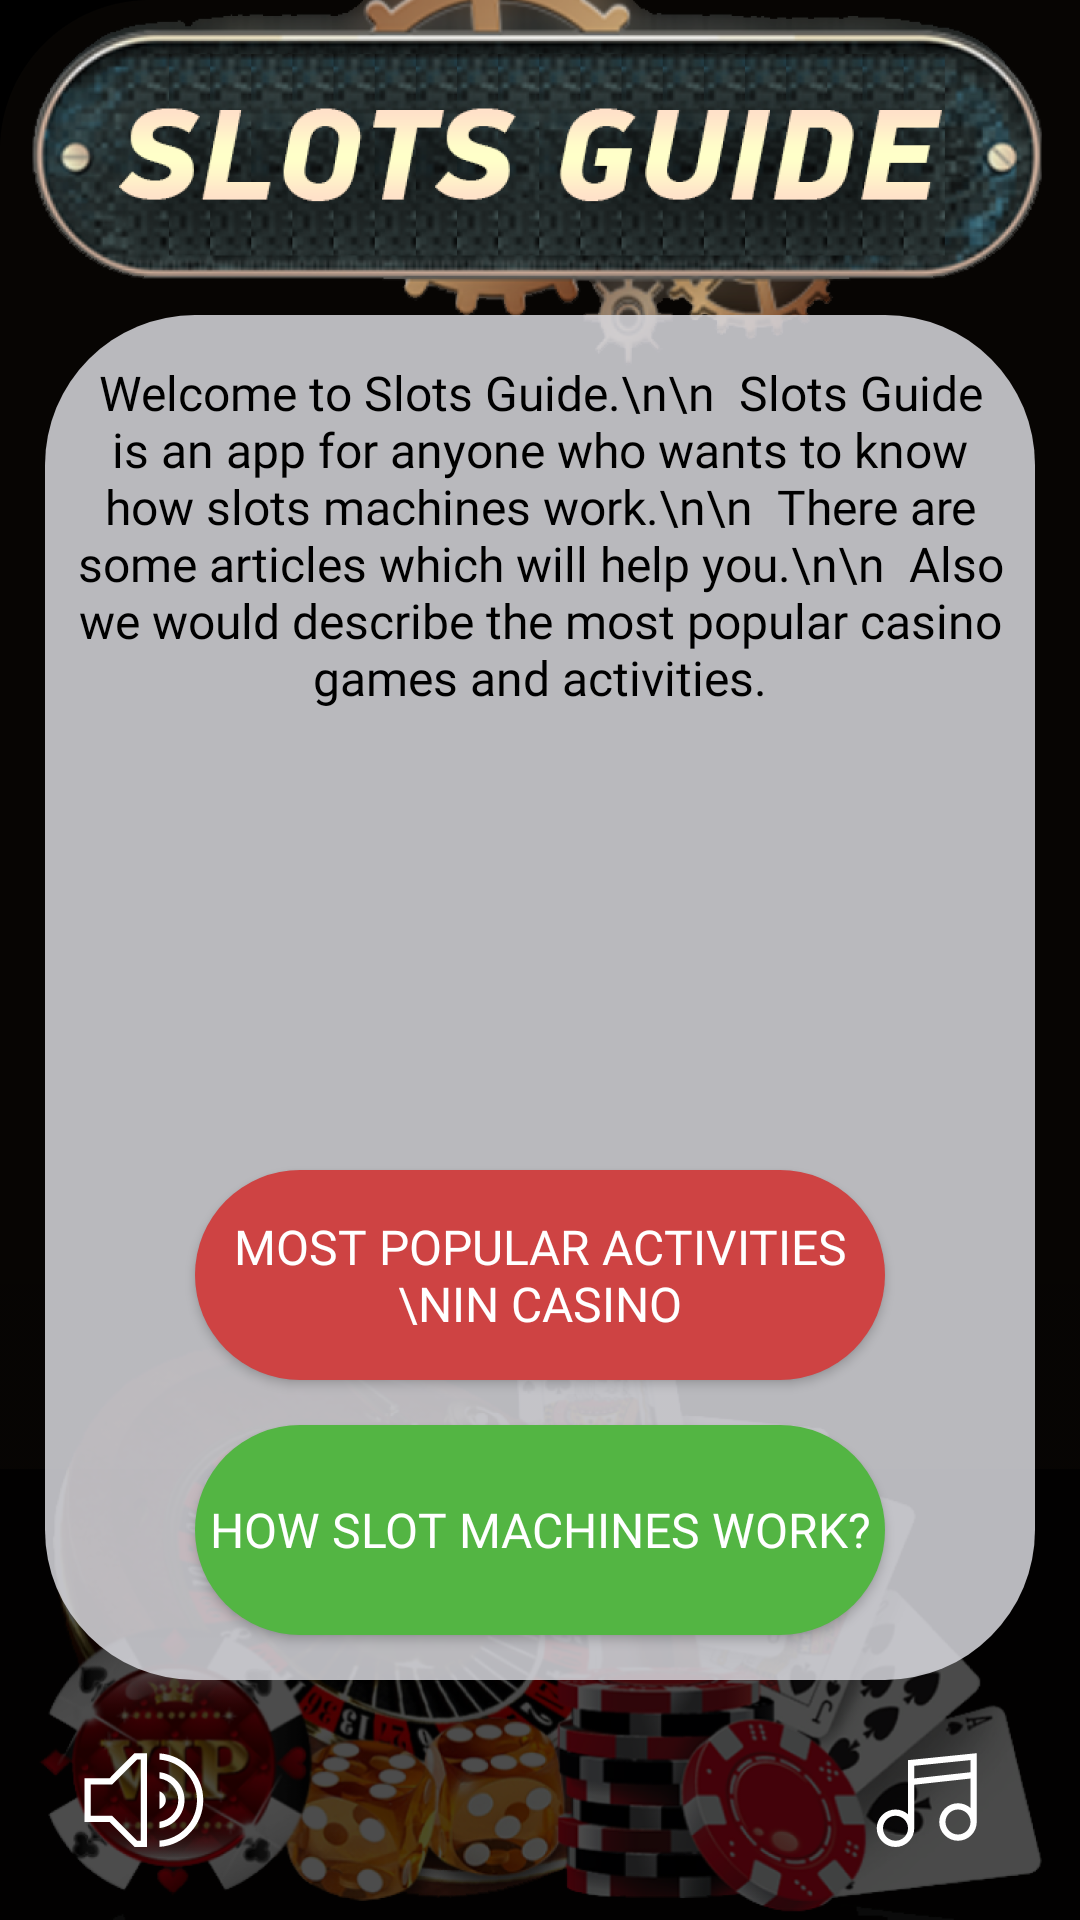

Icons on this 1080px×1920px Android screen, each with the point to tap as [x,y]:
music: [933,1797]
volume: [147,1797]
